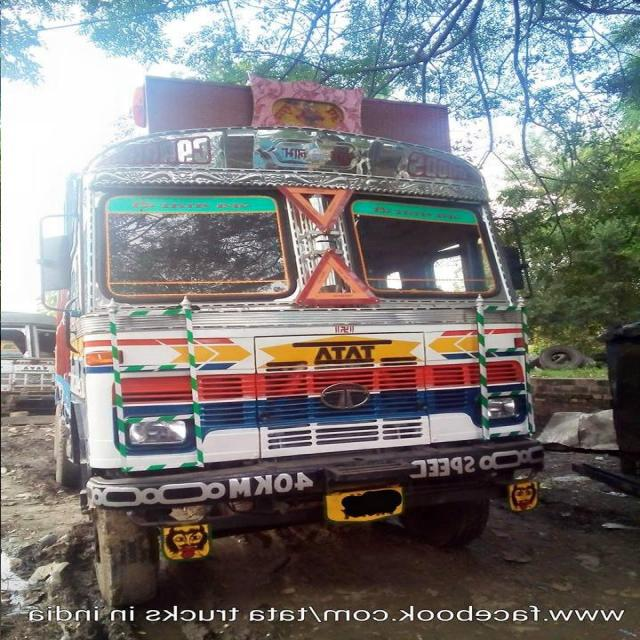truck: (43, 59, 558, 602)
